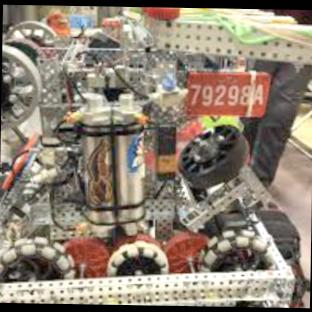Robot: (0, 7, 312, 307)
